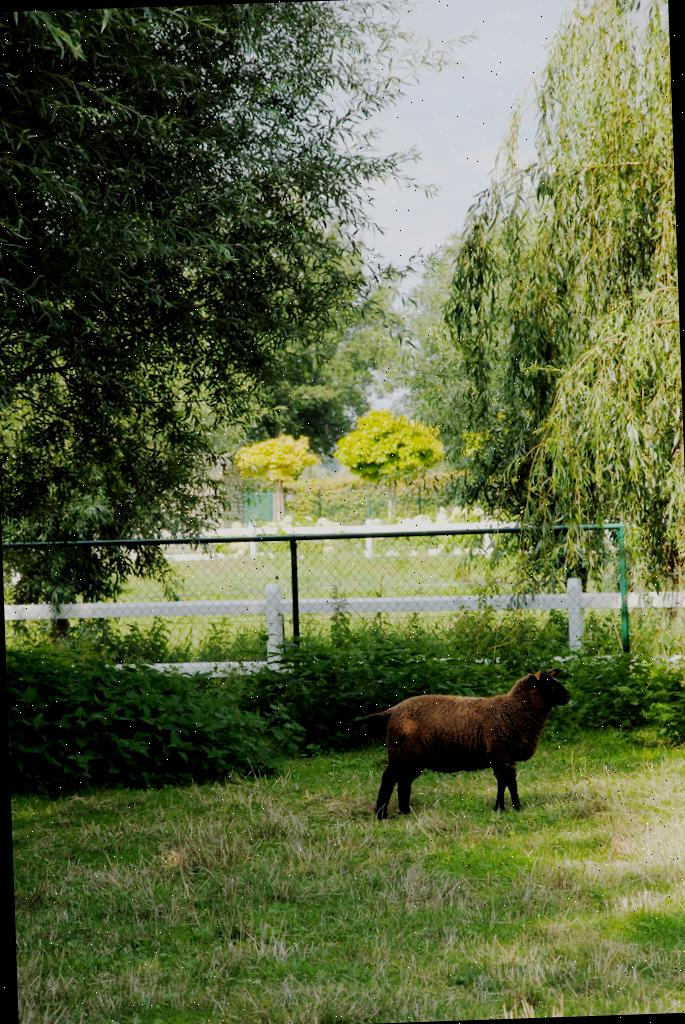Sheep: (358, 660, 582, 826)
